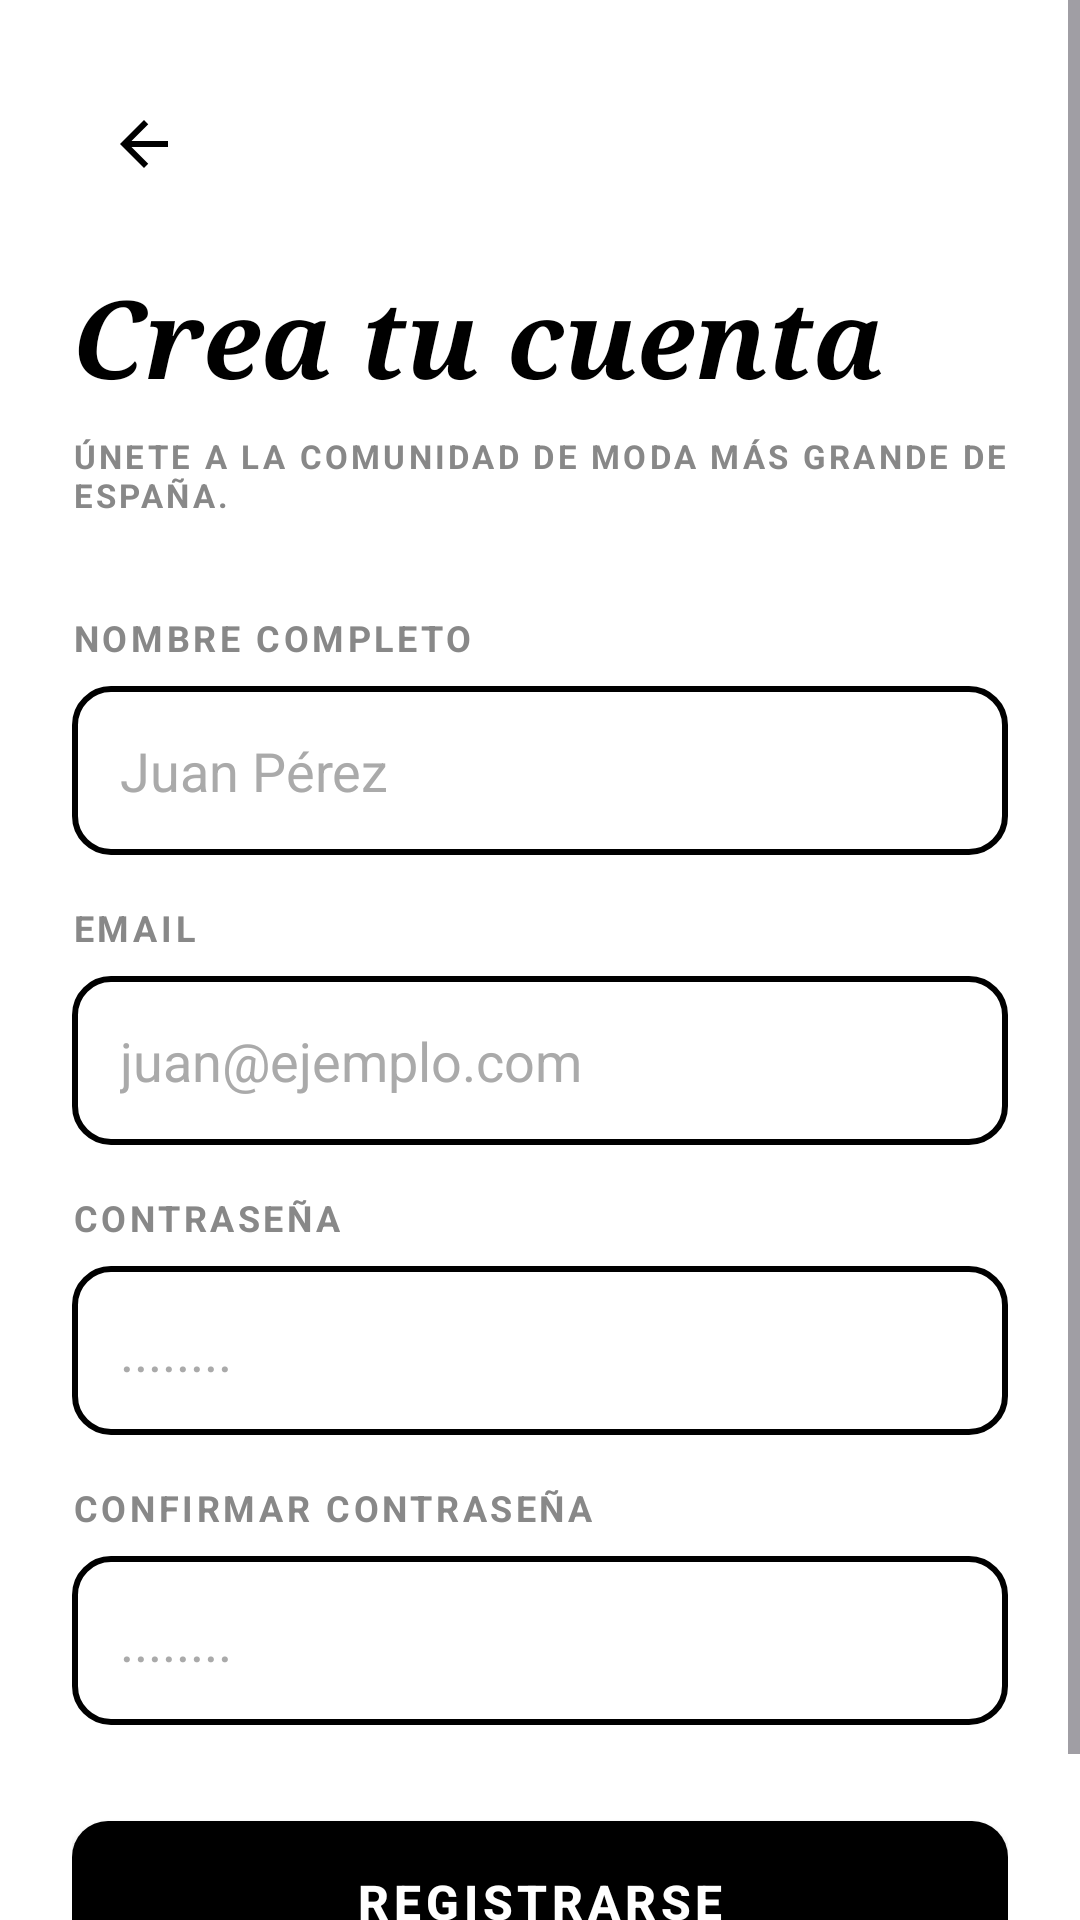

Where icons sit on this 1080px×1920px app screen, as region(x1, y1, x2, y2):
Atrás: region(120, 120, 168, 168)
